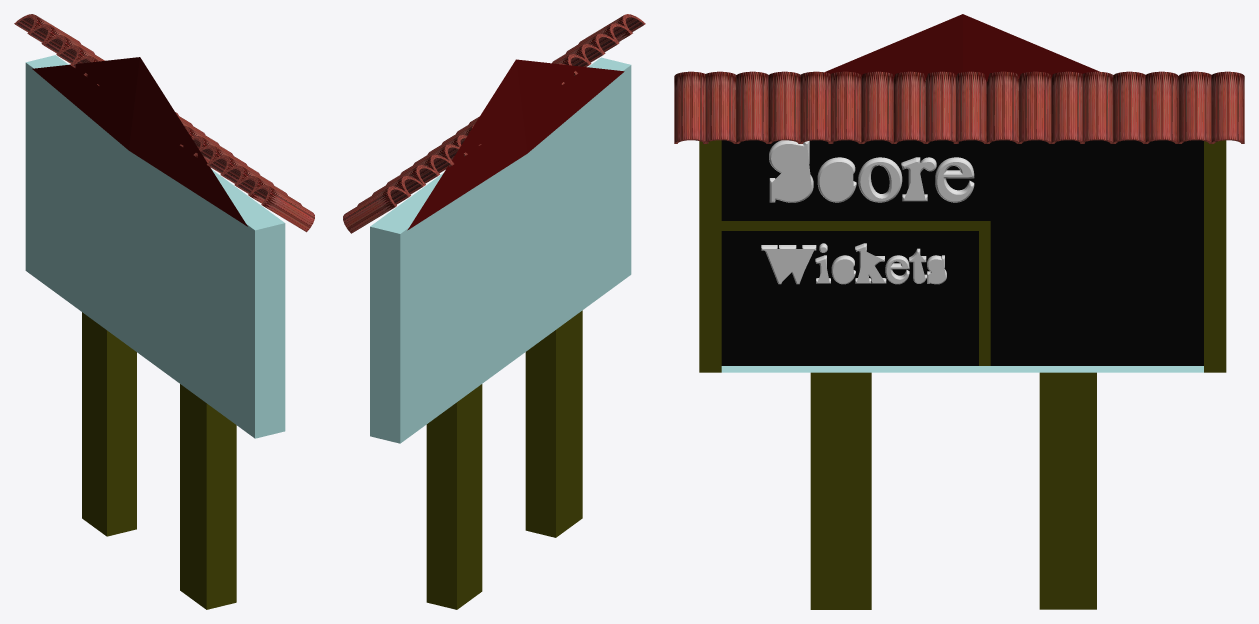
The model's file is ScoreBoard.fbx.
The picture shows the model from 3 angles, left to right: view 1: azimuth 30°, elevation 25°; view 2: azimuth 150°, elevation 25°; view 3: azimuth 270°, elevation 25°; orthographic projection. The views are drawn at different scales.
Parts seen in each view (by area): view 1: pCube1, pPyramid1, pPipe20; view 2: pCube1, pPyramid1, pPipe20; view 3: pCube1, pPipe20, pPyramid1, polySurface1, polySurface2.
Part boxes in pixels (left/top/right/bottom): pCube1: left=25, top=55, right=285, bottom=609; pPyramid1: left=32, top=57, right=247, bottom=226; pPipe20: left=14, top=14, right=314, bottom=232; pCube1: left=370, top=57, right=631, bottom=609; pPyramid1: left=407, top=59, right=624, bottom=230; pPipe20: left=343, top=14, right=645, bottom=233; pCube1: left=699, top=140, right=1226, bottom=609; pPipe20: left=674, top=71, right=1244, bottom=143; pPyramid1: left=825, top=14, right=1099, bottom=82; polySurface1: left=769, top=140, right=974, bottom=202; polySurface2: left=761, top=243, right=946, bottom=284.
Size of the model in its own units: 5.12 by 37.39 by 33.39.
Materials: 6 (1 with a texture image).
